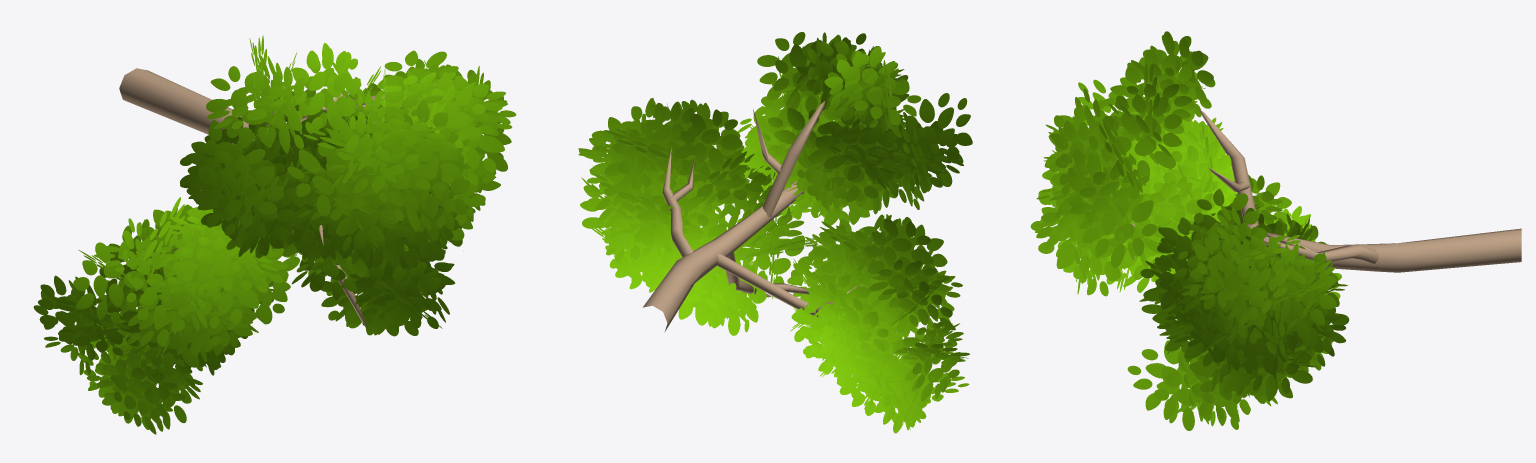
File: tree_lush_03.glb
3 renders of one model, left to right at view 1: azimuth 30°, elevation 25°; view 2: azimuth 150°, elevation 25°; view 3: azimuth 270°, elevation 25°, orthographic. The views are drawn at different scales.
Visible parts, largest first — view 1: NormalTree_5; view 2: NormalTree_5; view 3: NormalTree_5.
Boxes of the visible parts, x1=… form: NormalTree_5: x1=33, y1=35, x2=516, y2=434; NormalTree_5: x1=578, y1=32, x2=972, y2=433; NormalTree_5: x1=1030, y1=31, x2=1521, y2=430.
Size of the model in its own units: 3.1 by 2.57 by 2.98.
Materials: 2 (1 with a texture image).
